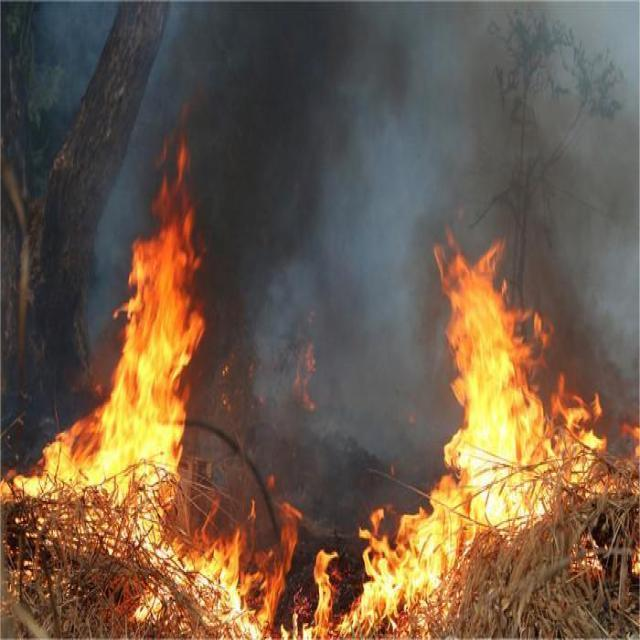Fire: (0, 201, 205, 509), (439, 238, 608, 523), (303, 484, 447, 640), (146, 526, 268, 640)
